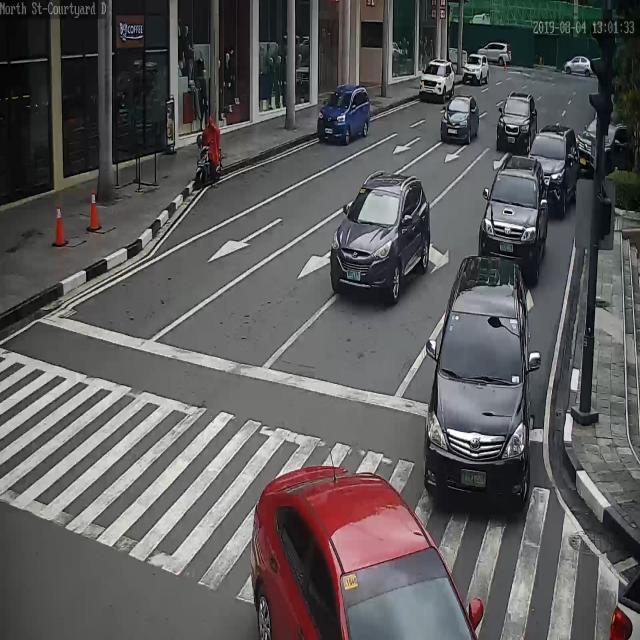car: (254, 467, 474, 640), (428, 274, 528, 502), (328, 172, 432, 301), (480, 158, 546, 267), (525, 126, 579, 208), (317, 83, 374, 145), (577, 119, 637, 172), (496, 92, 539, 149), (442, 94, 480, 143), (420, 61, 457, 102), (462, 54, 491, 86), (475, 43, 512, 67), (565, 54, 597, 77)
jeepney: (197, 118, 224, 190)
